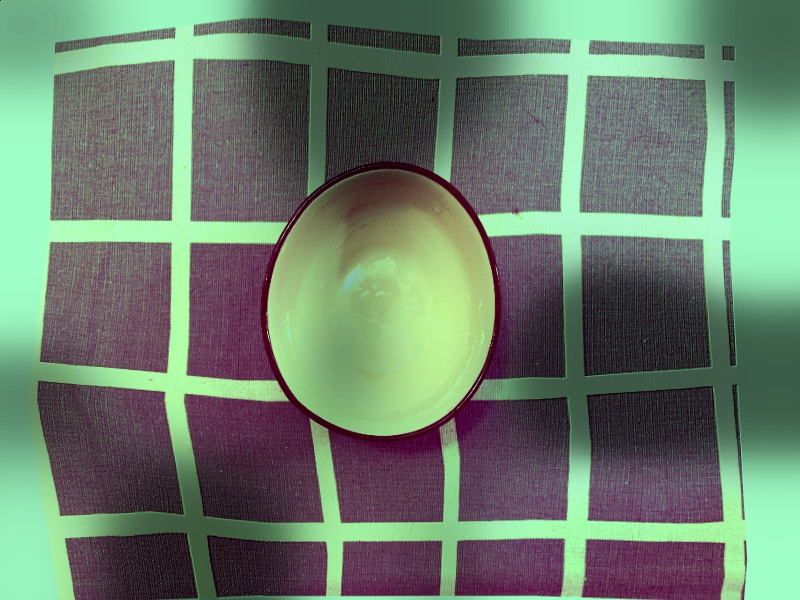bowl_small: (256, 151, 512, 450)
